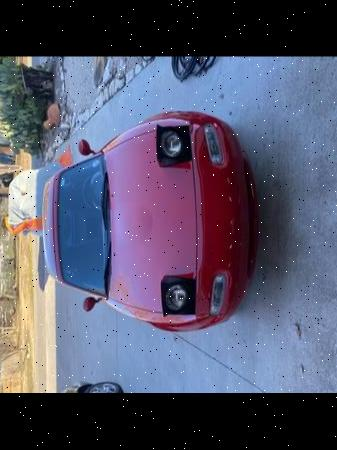Front_Bumper: (187, 111, 251, 329)
Front_Windshield: (54, 154, 108, 297)
Hood: (102, 111, 199, 330)
Left_Headlight: (155, 126, 189, 166)
Left_Mirror: (77, 139, 90, 156)
Right_Headlight: (160, 275, 196, 315)
Right_Mirror: (82, 296, 97, 312)
Roof: (38, 171, 60, 281)
